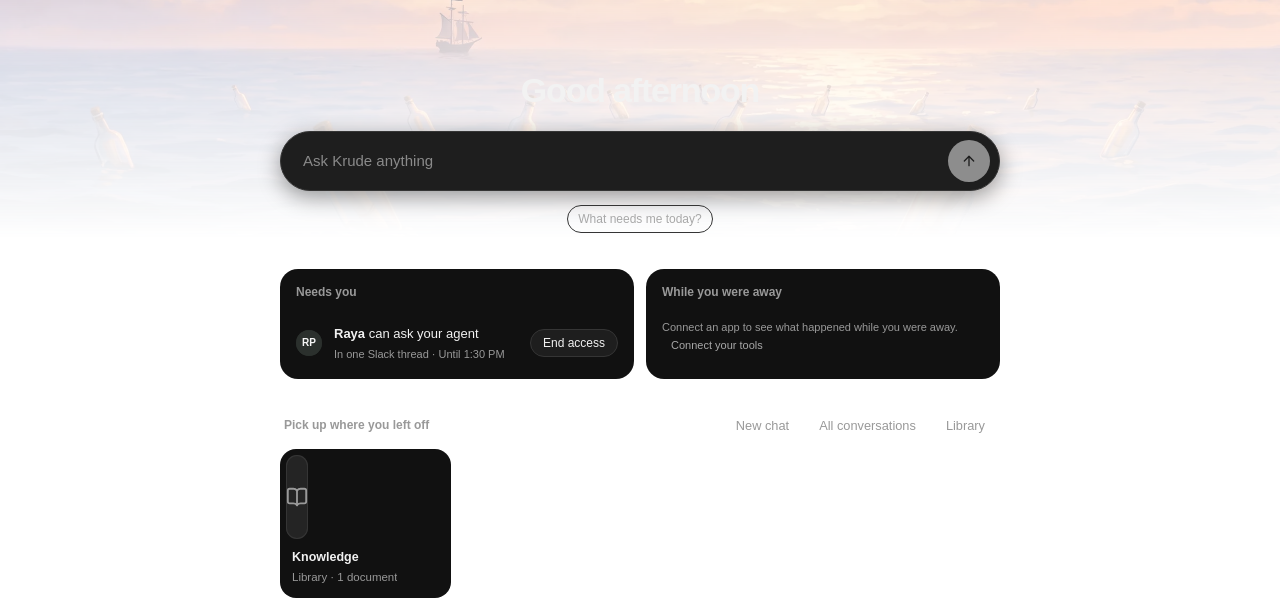
Test case: removes private open access after a refused refresh, preserving the unsent composer
Expected: the text "Raya can ask your agent" is shown, [334,326,478,340]
Type "Keep this draft" into the text box named "Start a new conversation" at x=622, y=161, box [303,145,940,177]
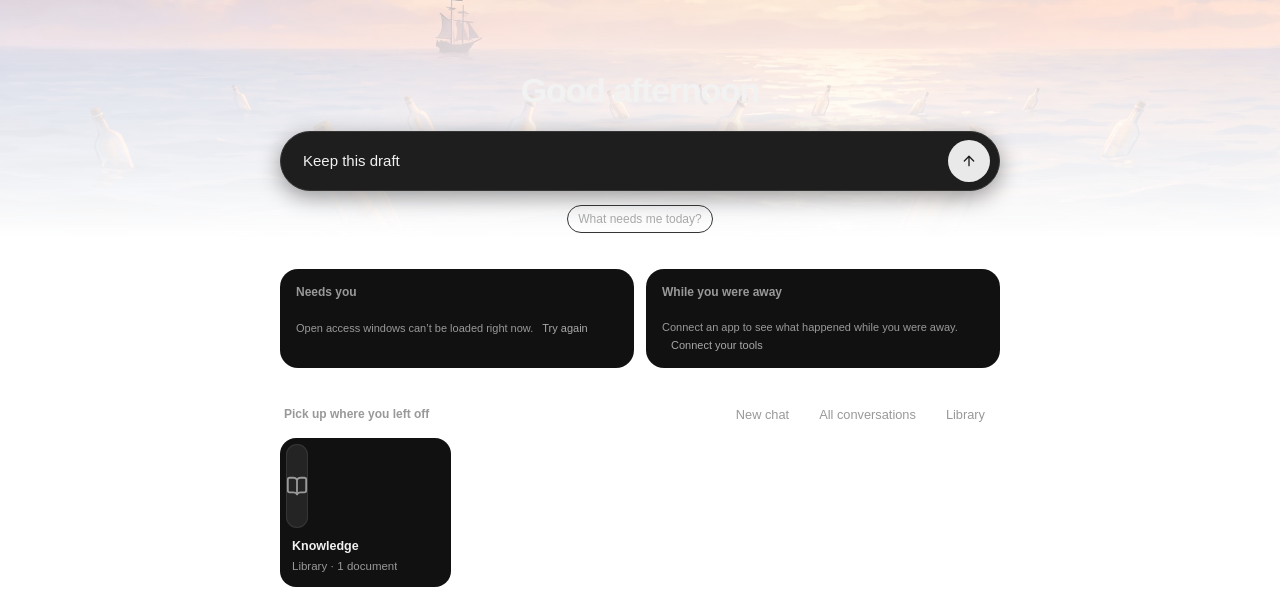
Now the text "Open access windows can’t be loaded right now." is shown, box [296,322,533,334]
Now the text "can ask your agent" is gone
